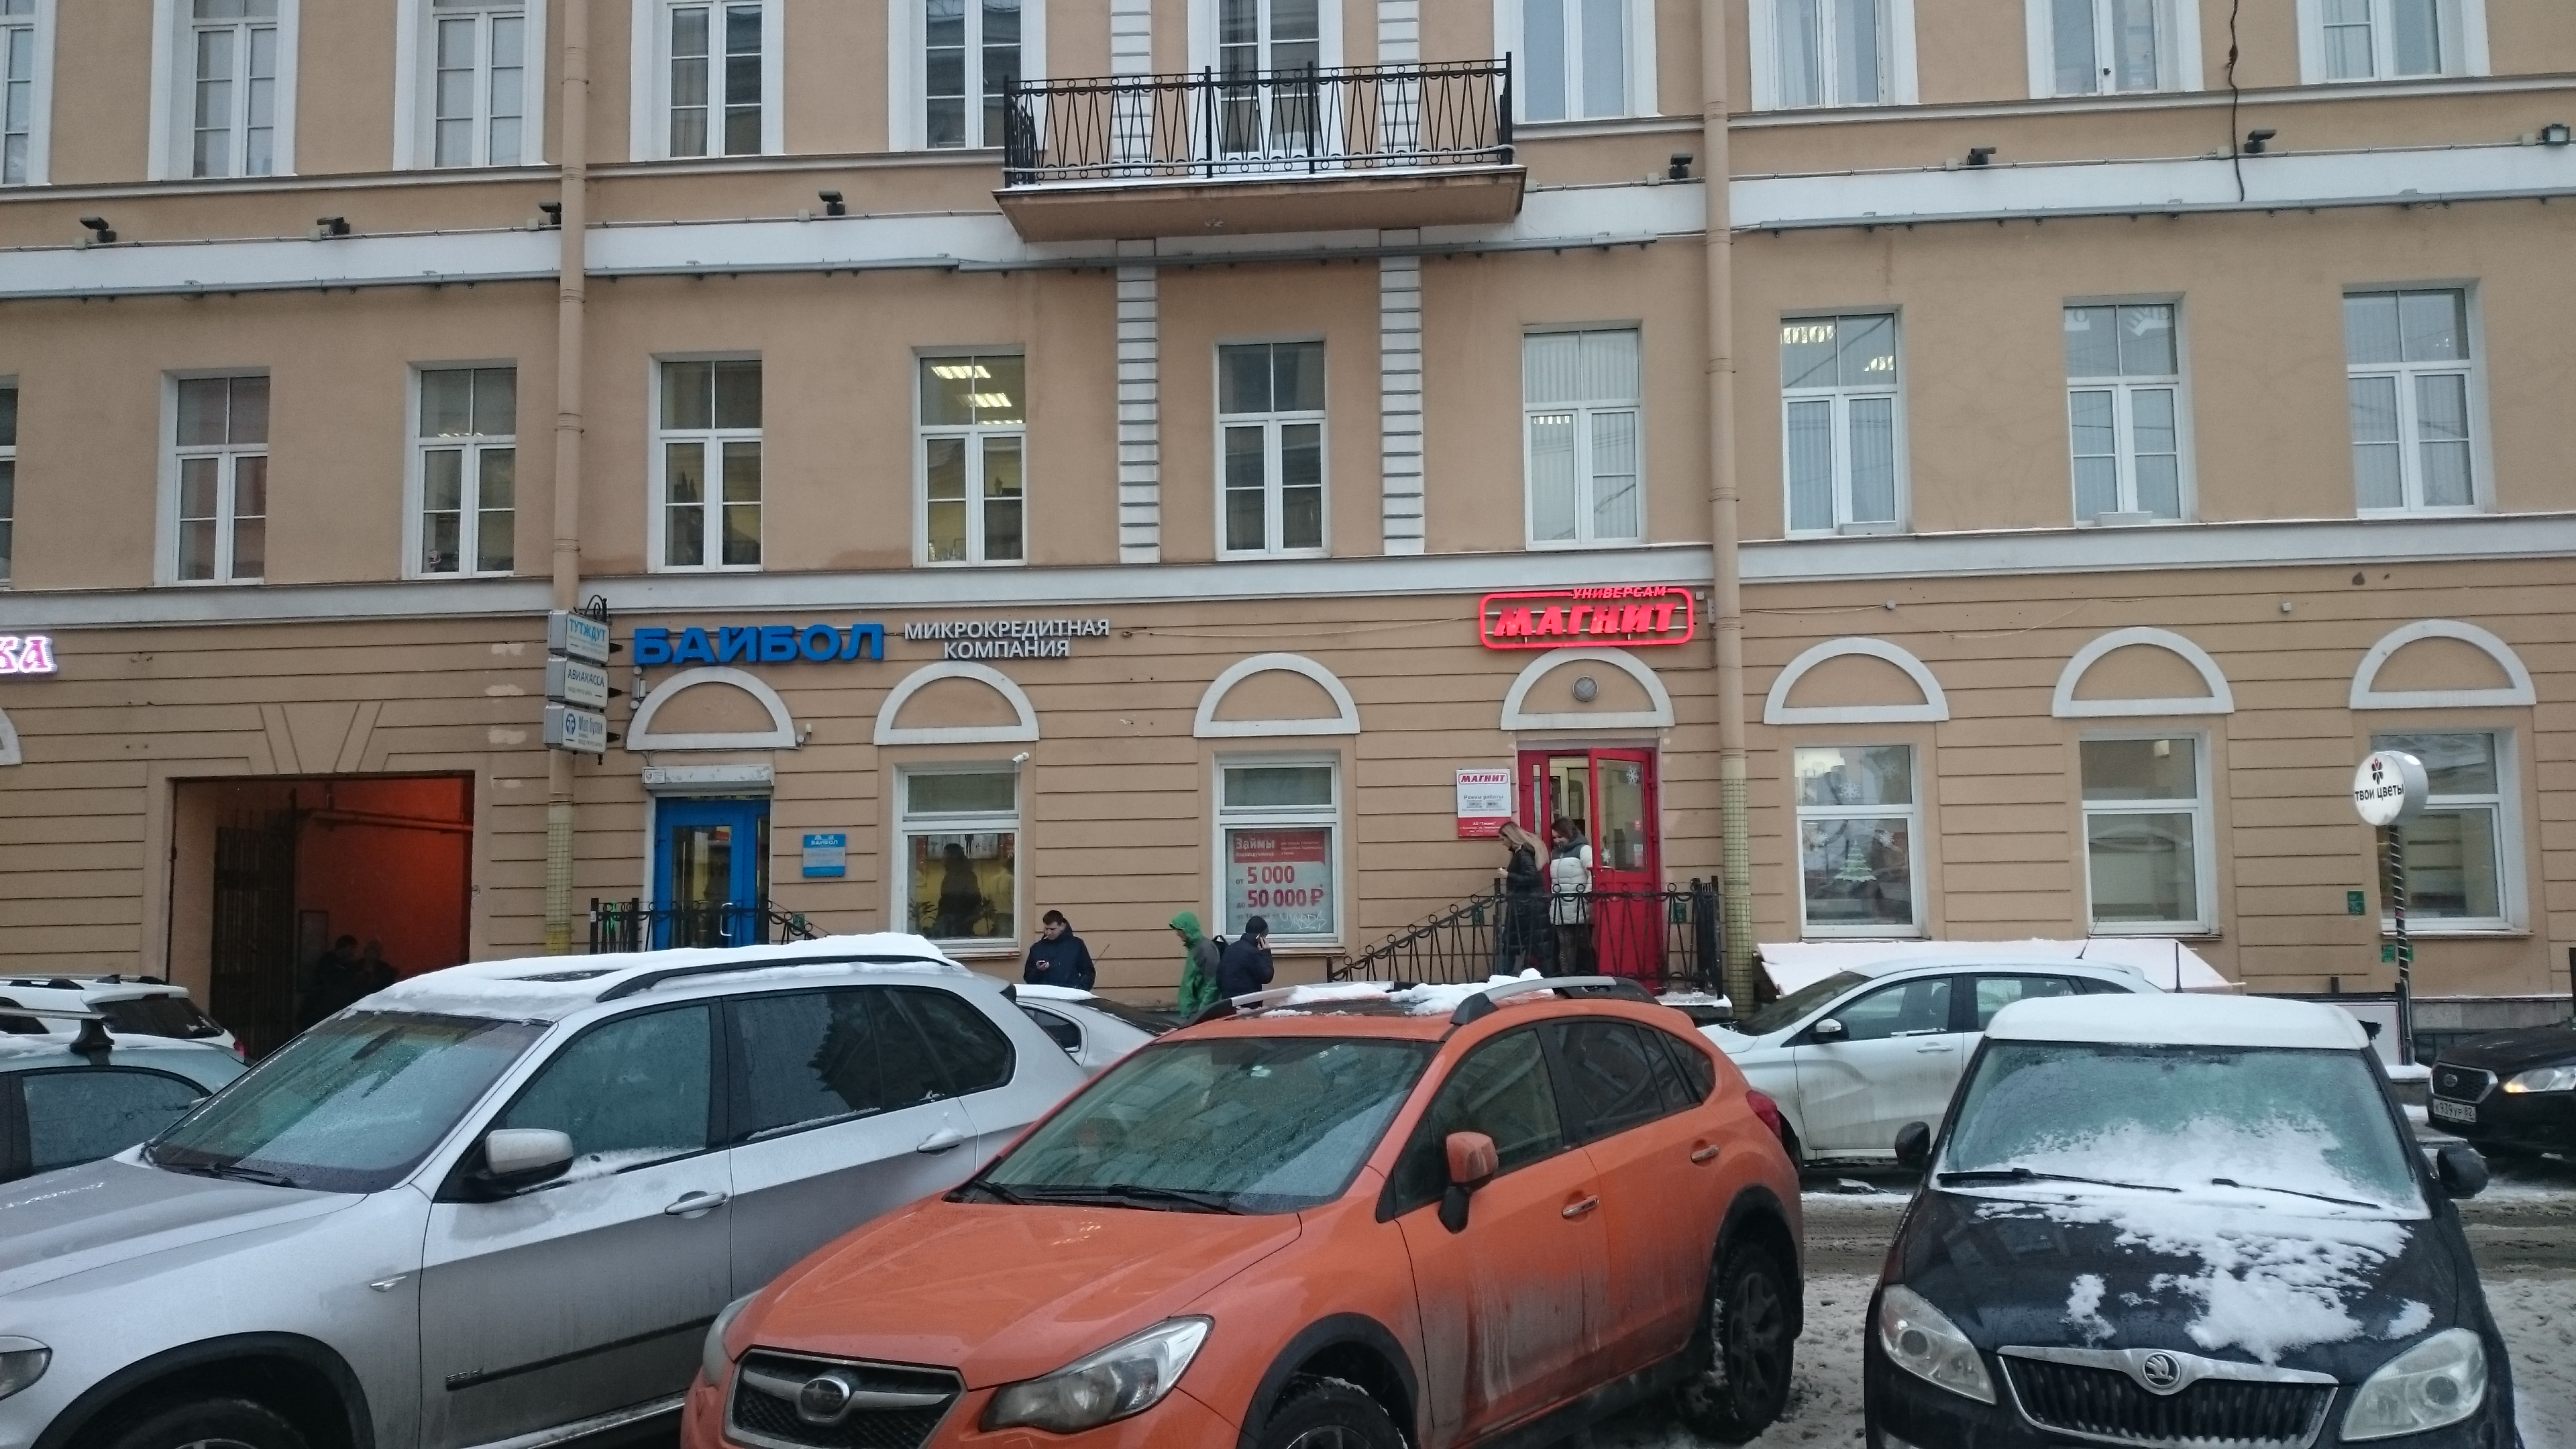arch: (157, 764, 481, 1054)
cantilever: (547, 594, 614, 759)
signboard: (1479, 584, 1700, 649), (630, 621, 895, 665), (899, 617, 1113, 655)
win_ad: (1230, 833, 1332, 929)
window: (2337, 281, 2484, 513), (2070, 727, 2212, 938), (2059, 299, 2181, 527), (1780, 327, 1900, 536), (2380, 734, 2507, 927), (1529, 322, 1638, 543), (1215, 336, 1325, 556), (909, 349, 1021, 561), (1215, 755, 1336, 950), (655, 359, 763, 573), (897, 768, 1024, 947), (1801, 738, 1918, 927), (166, 372, 274, 571), (419, 370, 520, 579)
